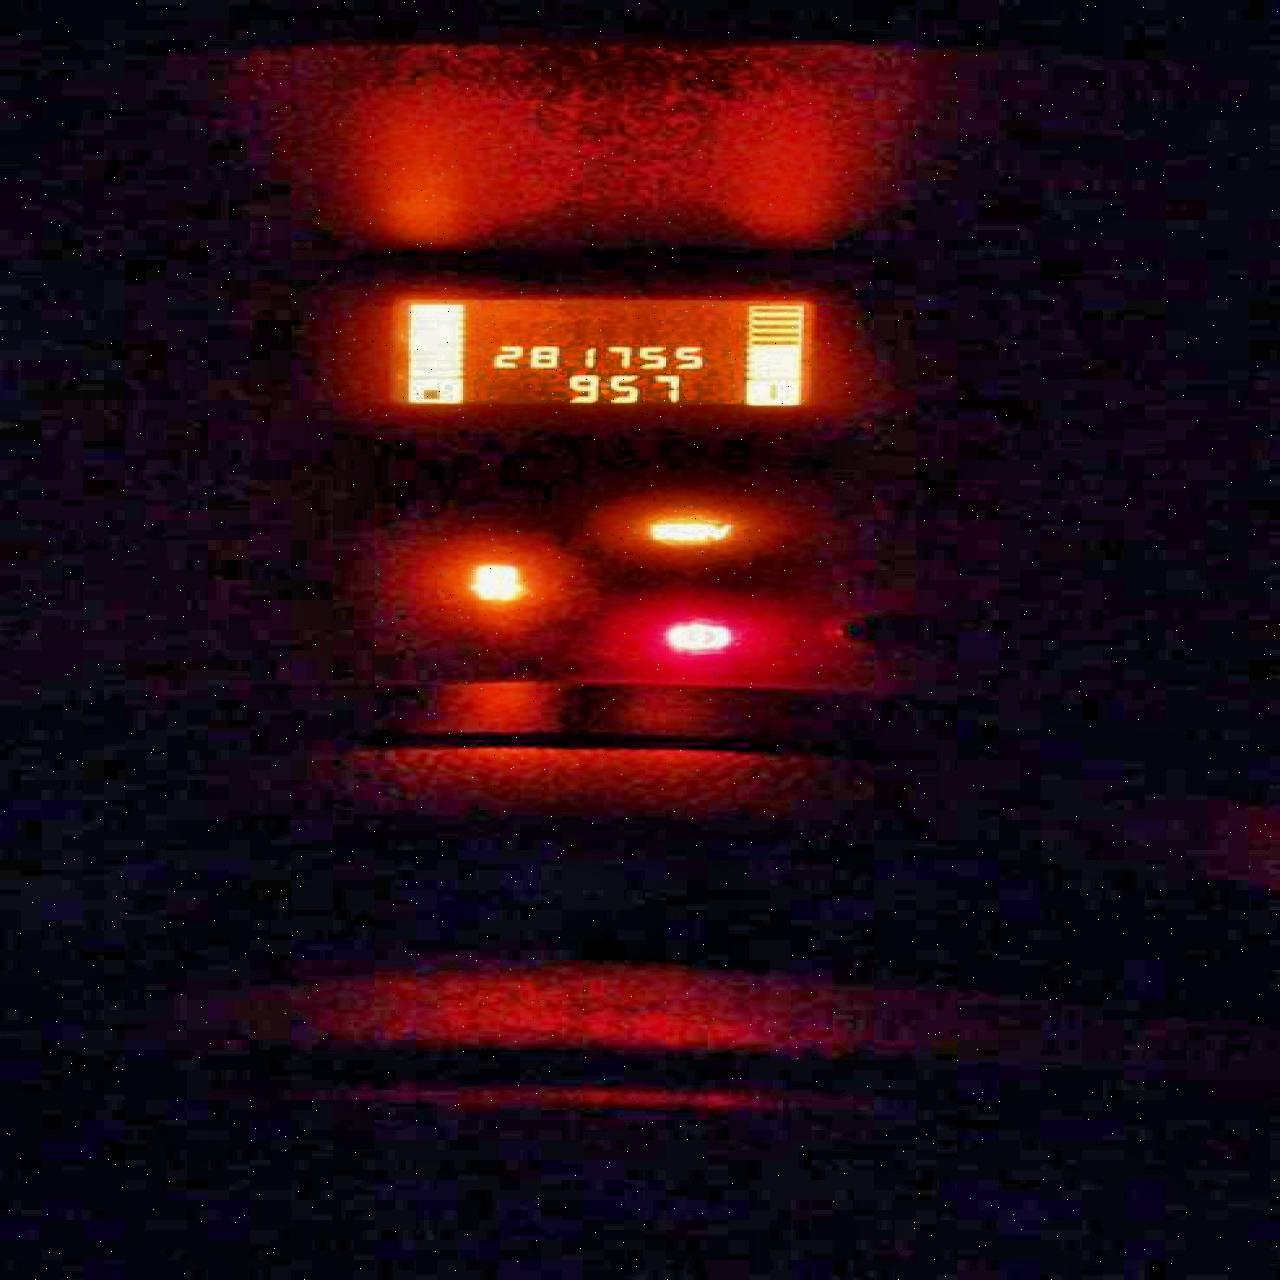1: (574, 343, 598, 368)
2: (489, 342, 520, 368)
5: (604, 373, 638, 403), (672, 343, 702, 370), (638, 345, 666, 369)
7: (648, 373, 679, 403), (601, 343, 632, 368)
8: (525, 343, 559, 368)
9: (561, 372, 598, 406)
odometer: (356, 290, 828, 416)
